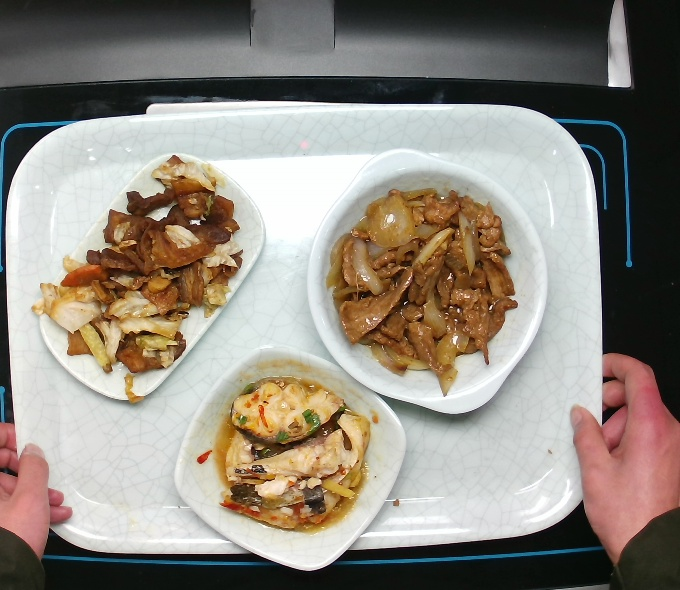wcq-DuoJiaoYuKuai: (209, 370, 369, 527)
wcq-PaoCaiRouPian: (42, 155, 251, 367)
wcq-YangCongRouPian: (330, 180, 520, 376)
